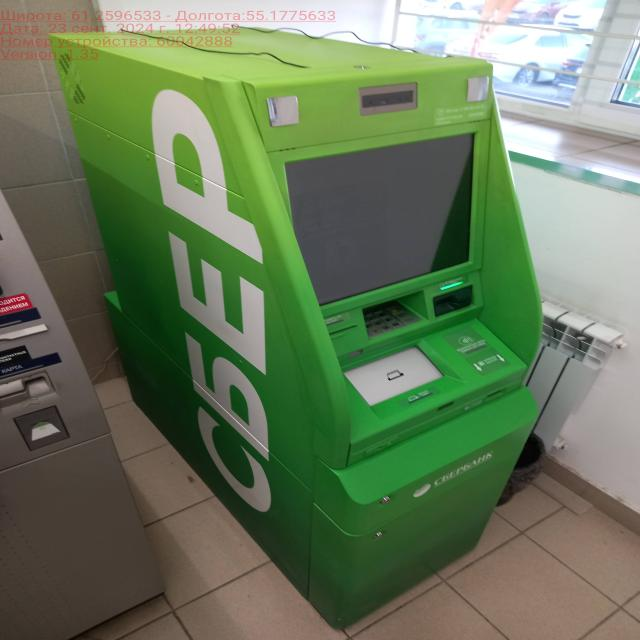bank: (53, 24, 544, 630)
